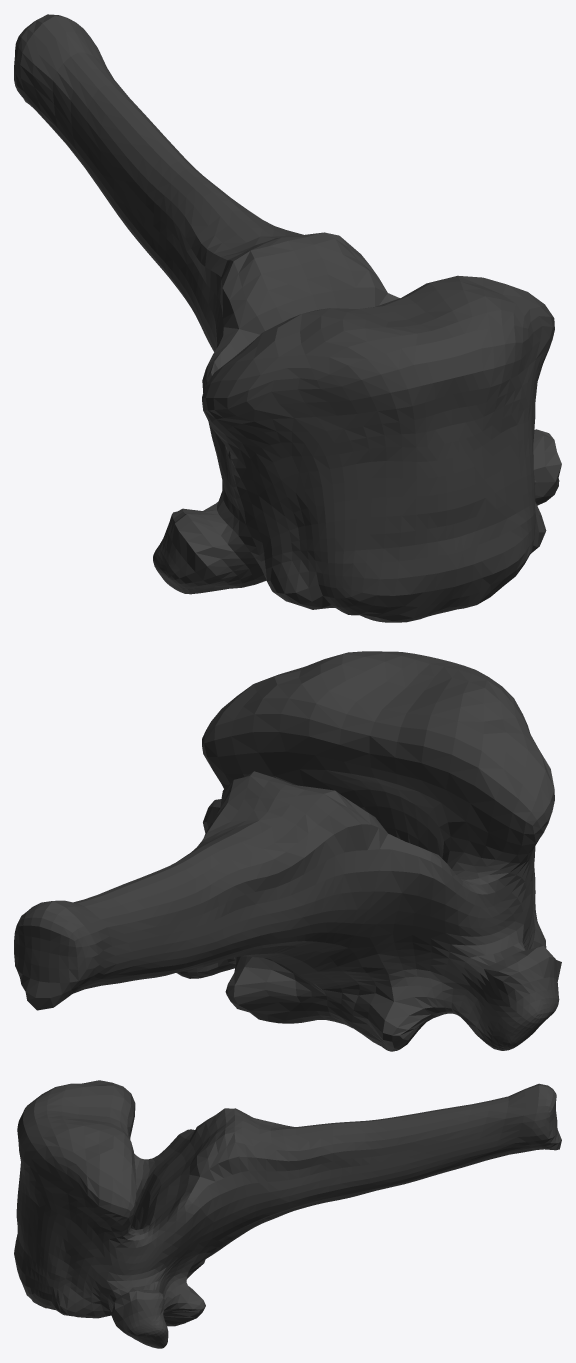
3 views of the same model, one above another, from view 1: azimuth 30°, elevation 25°; view 2: azimuth 150°, elevation 25°; view 3: azimuth 270°, elevation 25° (orthographic). The views are drawn at different scales.
Visible parts, largest first — view 1: B_T1; view 2: B_T1; view 3: B_T1.
Part boxes in pixels (bbox=[...]): B_T1: bbox=[14, 14, 561, 622]; B_T1: bbox=[14, 651, 561, 1051]; B_T1: bbox=[14, 1080, 561, 1348].
Size of the model in its own units: 0.00219 by 0.00183 by 0.00408.
1 material, 1 textured.
